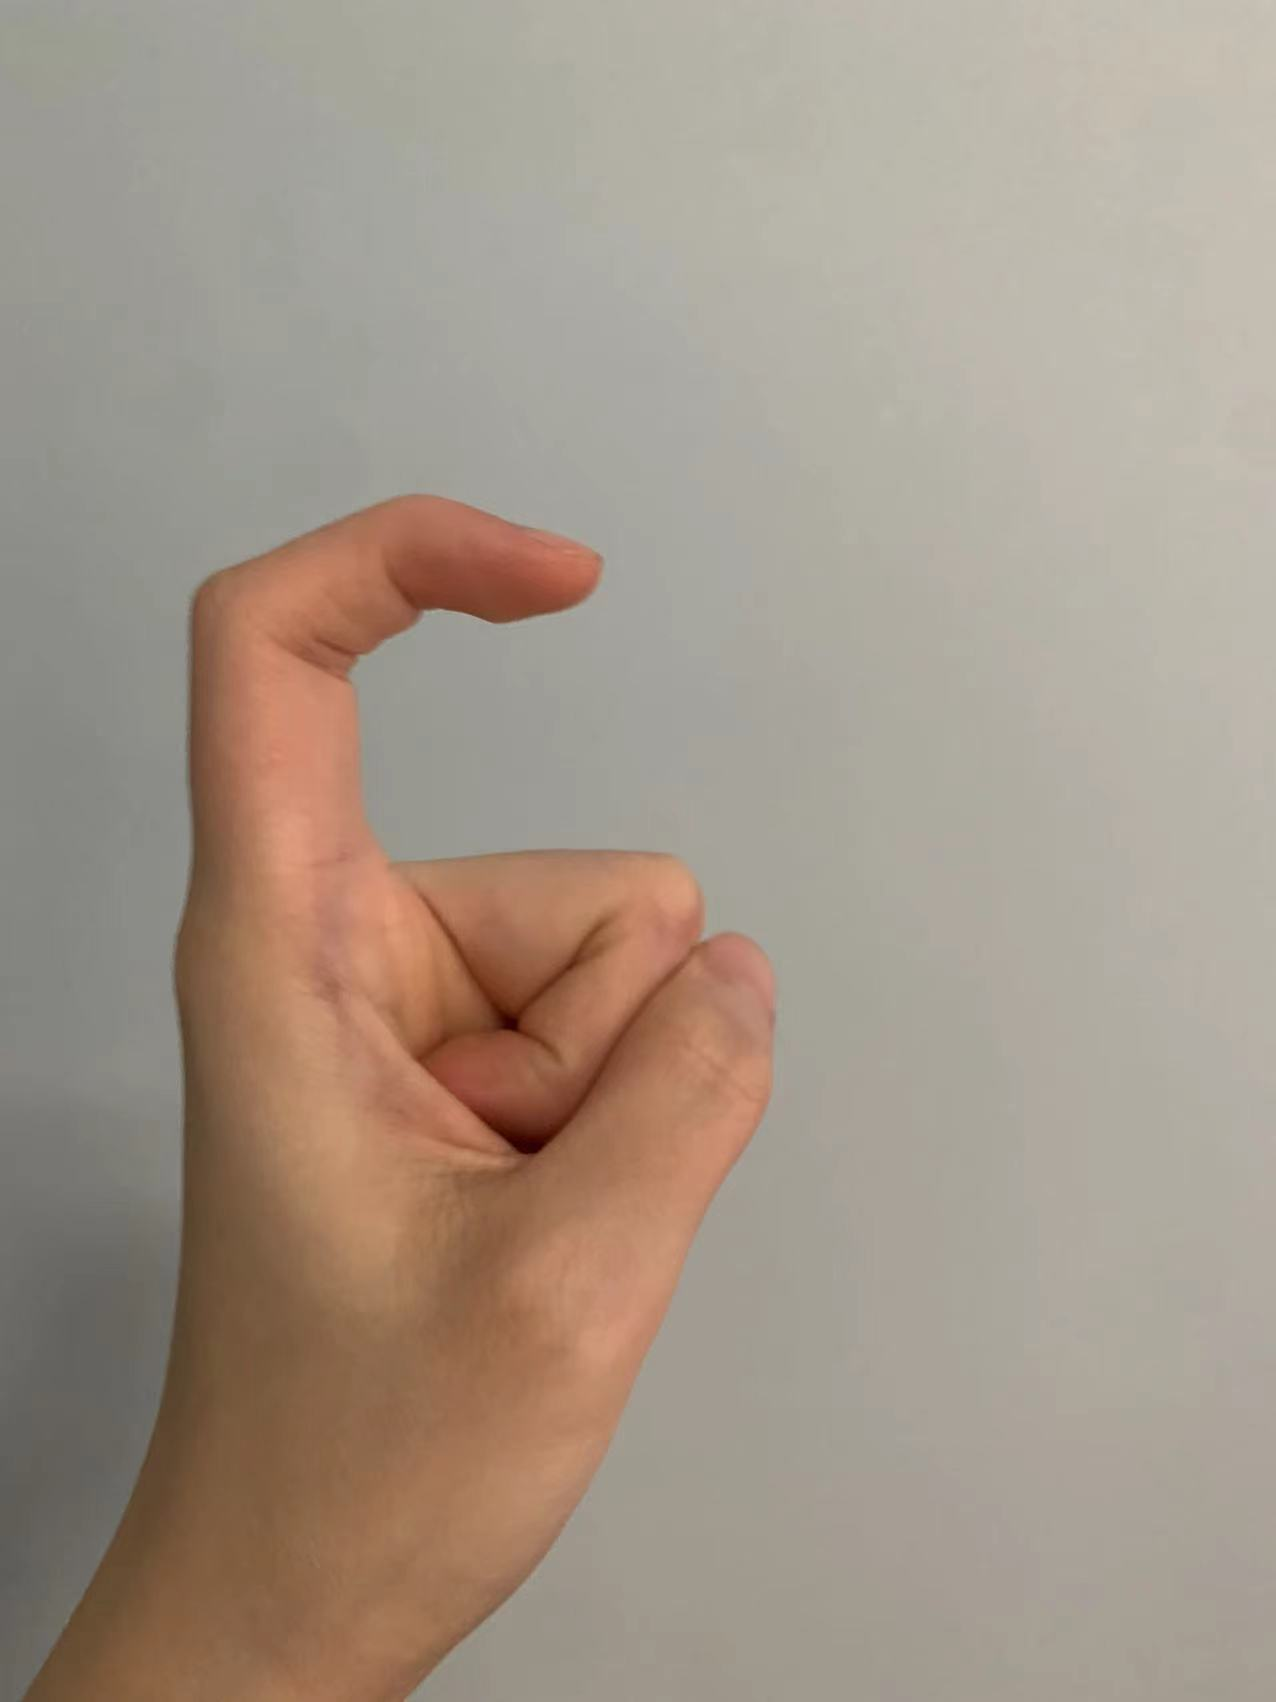anticlockwise: (122, 480, 803, 1509)
